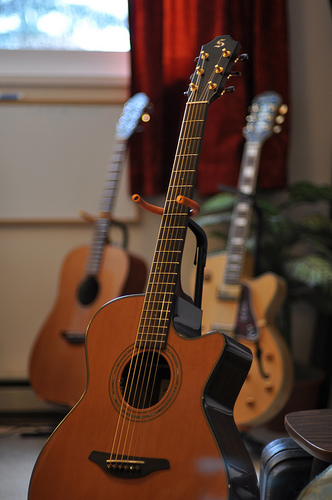guitar: (24, 31, 260, 500), (26, 86, 153, 410)
